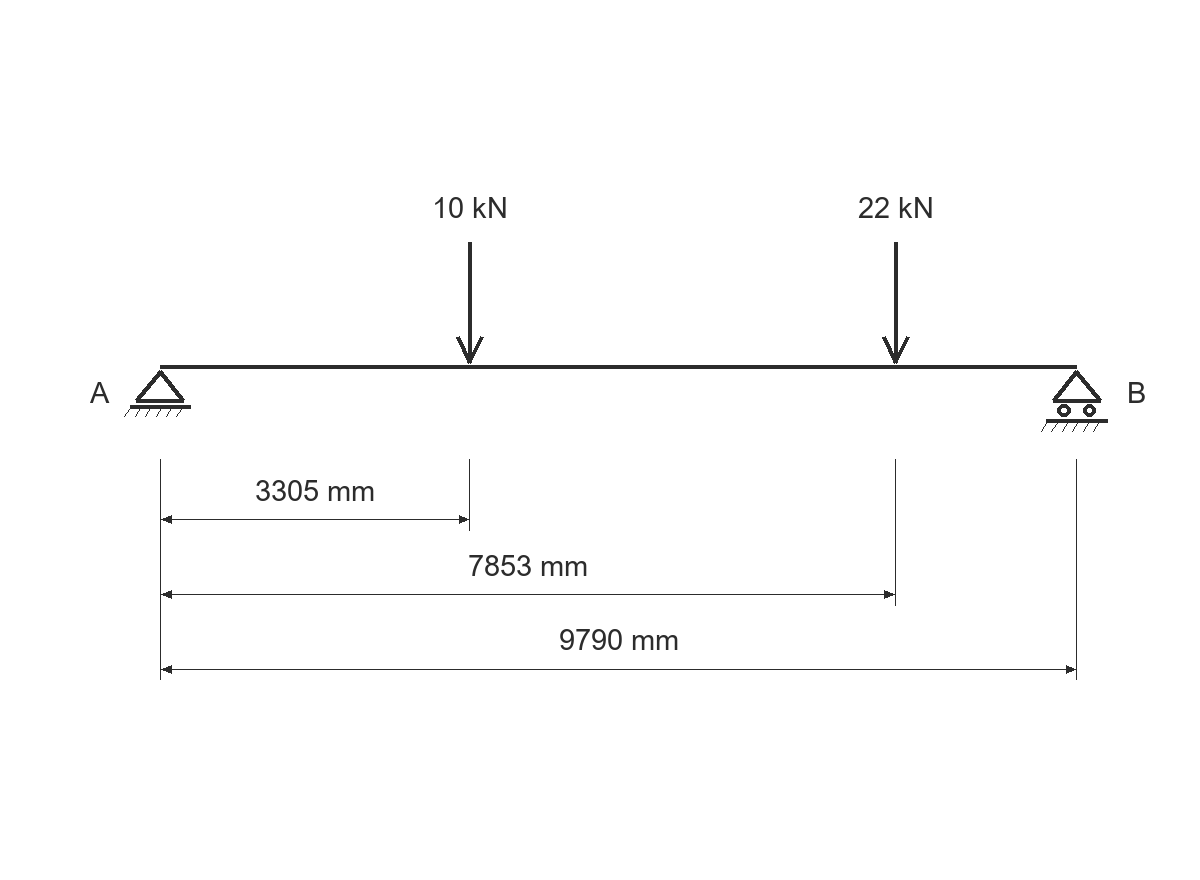pin_support: (124, 370, 191, 417)
point_load: (456, 242, 484, 364), (882, 242, 910, 364)
roller_support: (1041, 370, 1108, 432)
